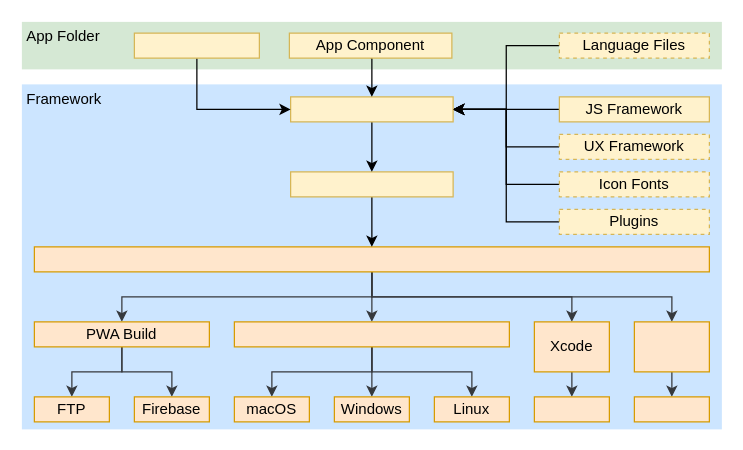
Some shapes in this 743 by 450 pixel diagram are drawn without their labels. The shapes that lost their labels are listed below. From the top down, each one's centre as x and y in pixels, then its label:
At point 196,45: "Config File".
At point 371,109: "App Initialization".
At point 371,184: "Index HTML File".
At point 371,259: "Web Build".
At point 371,334: "Electron Build".
At point 671,346: "Android Studio".
At point 571,409: "iOS".
At point 671,409: "Android".
